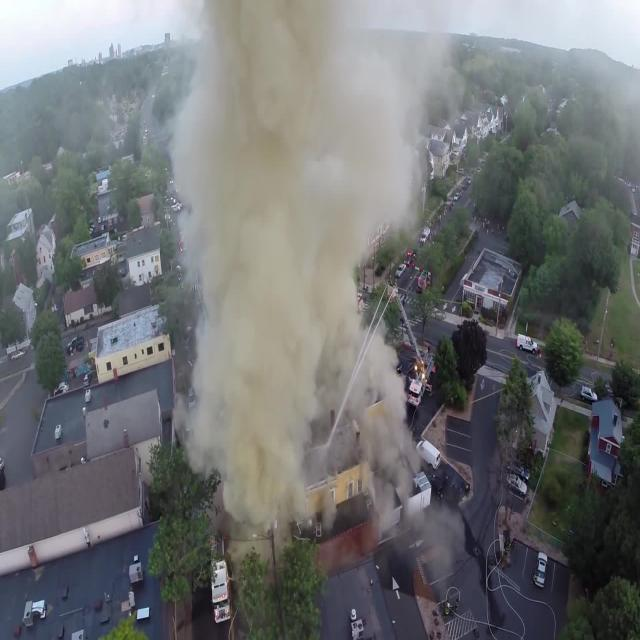Smoke: (196, 198, 312, 520)
